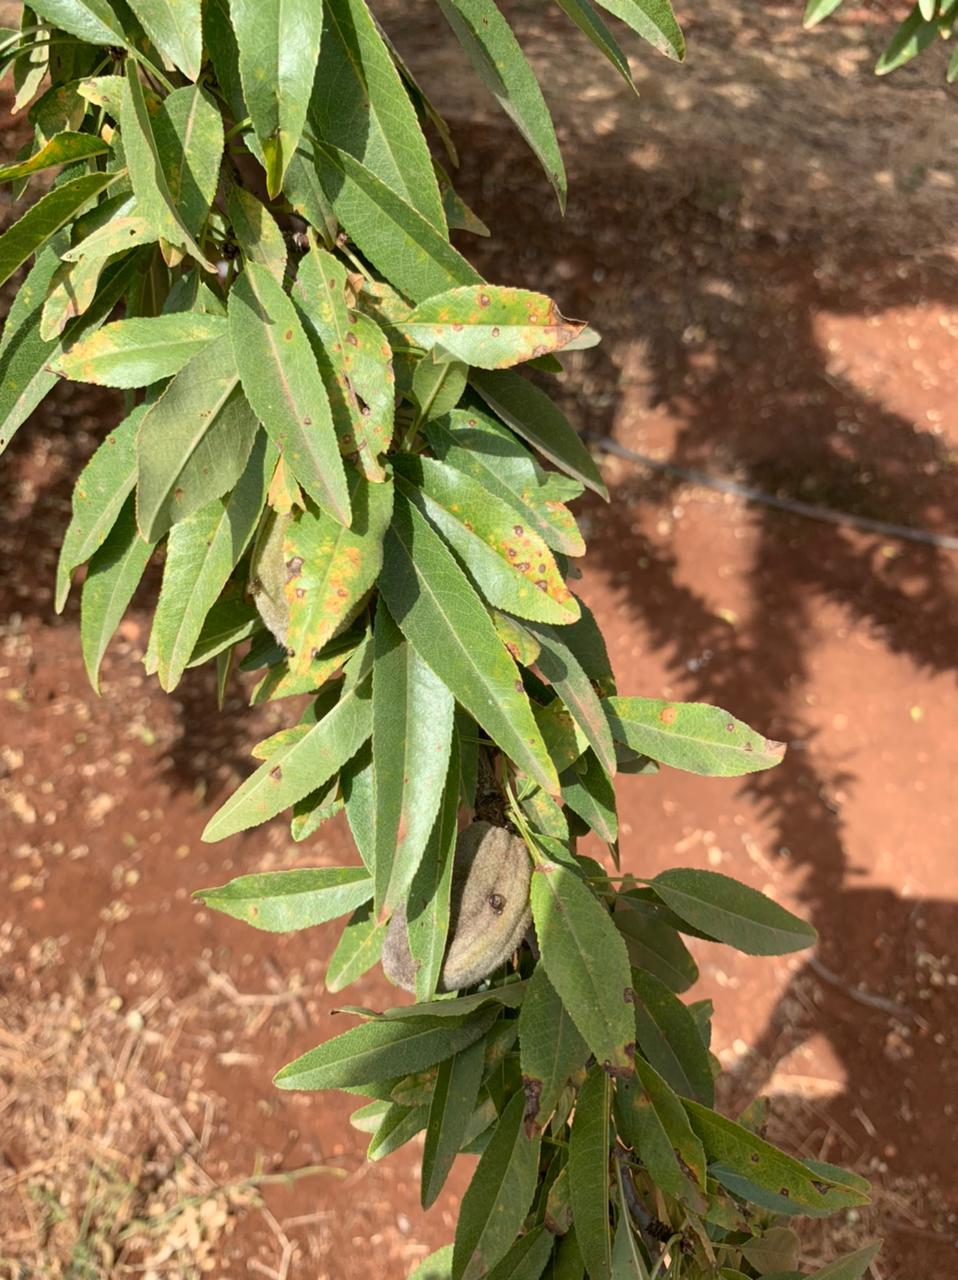coryneum: (391, 450, 581, 627), (528, 856, 639, 1094), (283, 452, 393, 687), (290, 246, 397, 484), (402, 283, 604, 371), (600, 696, 790, 777)
polystigma: (390, 450, 582, 626), (402, 283, 606, 372)
